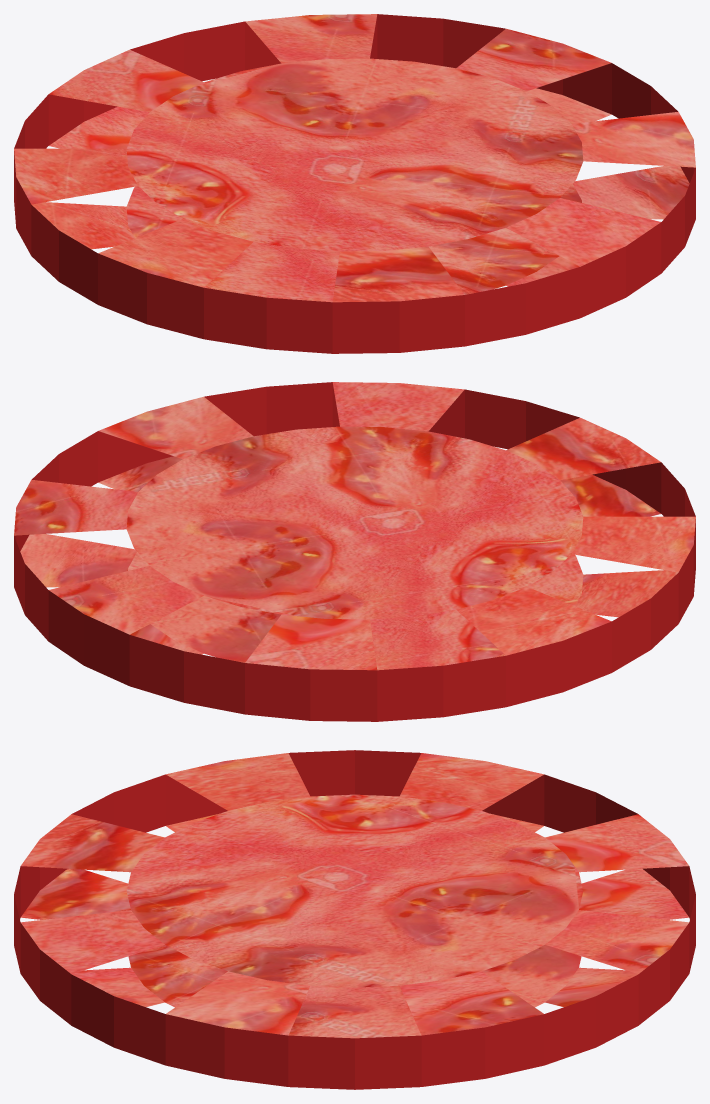
The model's file is jitomate.obj.
3 views of the same model, one above another, from view 1: azimuth 30°, elevation 25°; view 2: azimuth 150°, elevation 25°; view 3: azimuth 270°, elevation 25° (orthographic).
Parts seen in each view (by area): view 1: Cilindro.013; view 2: Cilindro.013; view 3: Cilindro.013.
Part boxes in pixels (x1,y1,x2,y2): Cilindro.013: [14, 14, 695, 353]; Cilindro.013: [14, 382, 695, 721]; Cilindro.013: [14, 750, 695, 1089].
Bounding box in the file's own units: 0.18 × 0.0168 × 0.18.
